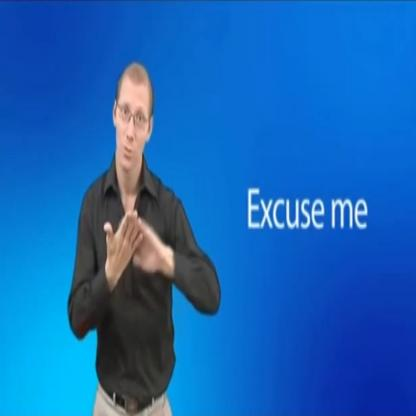ExcuseMe: (94, 202, 164, 291)
